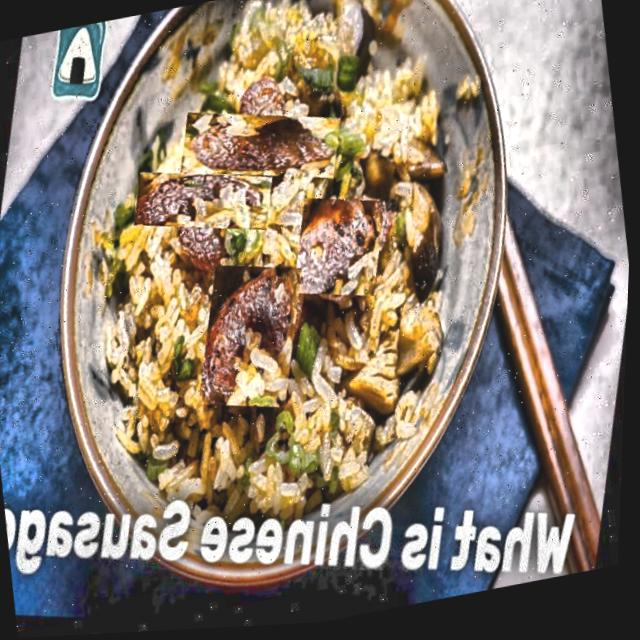Food: (181, 250, 325, 427), (186, 72, 336, 224), (139, 138, 269, 269), (282, 186, 401, 315)
